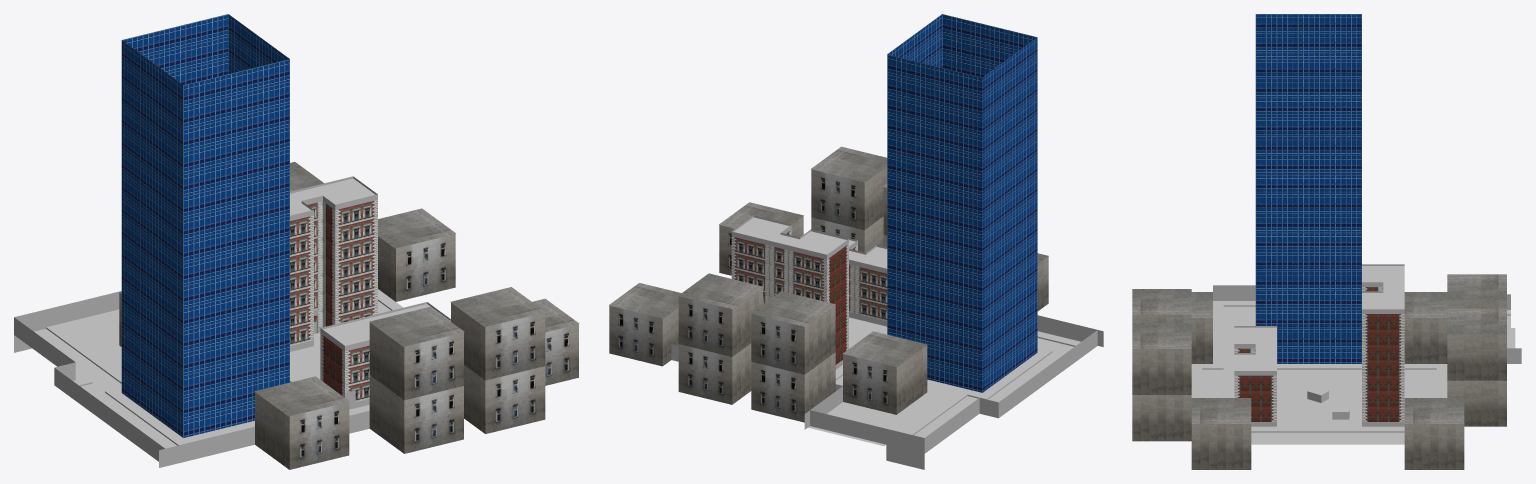
File: Blender_LowPolyCity_byStarkCraft02.fbx
3 views of the same model, side by side, from view 1: azimuth 30°, elevation 25°; view 2: azimuth 150°, elevation 25°; view 3: azimuth 270°, elevation 25° (orthographic). The views are drawn at different scales.
Visible parts, largest first — view 1: Skyscraper_tall, Brickwall01.022, Plane.016, Plane.008, Plane.001, Plane.012, Brickwall01.021, Plane.011, Plane.021, Plane.020, Plane.003, Road.013 (+6 smaller); view 2: Skyscraper_tall, Plane.014, Plane.013, Brickwall01.022, Plane.008, Plane.019, Plane.012, Brickwall01.021, Plane.020, Plane.011, Ground.008, Plane.021 (+9 smaller); view 3: Skyscraper_tall, Plane.008, Brickwall01.022, Plane.013, Plane.011, Plane.012, Brickwall01.021, Ground.006, Plane.019, Plane.014, Plane.016, Road.006 (+8 smaller).
Boxes of the visible parts, x1,y1,x2,y2 form: Skyscraper_tall: (121, 14, 289, 437); Brickwall01.022: (290, 176, 377, 351); Plane.016: (369, 306, 464, 453); Plane.008: (450, 287, 545, 433); Plane.001: (254, 376, 349, 469); Plane.012: (378, 208, 455, 301); Brickwall01.021: (320, 302, 450, 408); Plane.011: (532, 298, 579, 385); Plane.021: (54, 368, 164, 461); Plane.020: (14, 291, 121, 330); Plane.003: (159, 427, 254, 467); Road.013: (36, 324, 121, 385); Skyscraper_tall: (887, 14, 1037, 392); Plane.014: (751, 291, 835, 422); Plane.013: (678, 273, 763, 404); Brickwall01.022: (731, 215, 848, 369); Plane.008: (810, 146, 887, 252); Plane.019: (842, 331, 927, 414); Plane.012: (609, 283, 681, 366); Brickwall01.021: (819, 231, 887, 326); Plane.020: (810, 410, 924, 453); Plane.011: (719, 202, 803, 275); Ground.008: (830, 392, 949, 429); Plane.021: (998, 330, 1097, 417); Skyscraper_tall: (1255, 14, 1361, 363); Plane.008: (1132, 323, 1191, 441); Brickwall01.022: (1362, 264, 1404, 426); Plane.013: (1447, 308, 1506, 426); Plane.011: (1191, 398, 1251, 469); Plane.012: (1404, 398, 1464, 469); Brickwall01.021: (1234, 326, 1276, 426); Ground.006: (1277, 381, 1361, 426); Plane.019: (1404, 292, 1447, 363); Plane.014: (1447, 274, 1506, 308); Plane.016: (1132, 289, 1191, 322); Road.006: (1251, 426, 1404, 436).
Bounding box in the file's own units: 9570 × 8300 × 9150.
